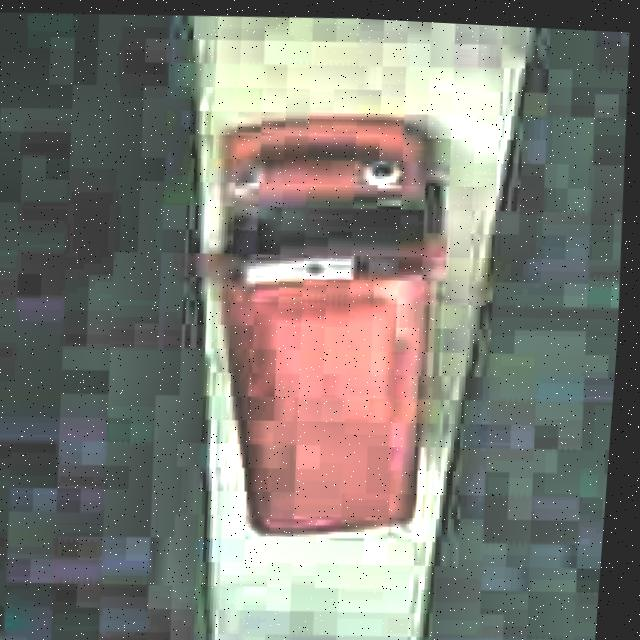bus: (171, 103, 464, 547)
